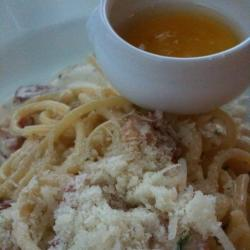carbonara: (12, 81, 243, 247)
